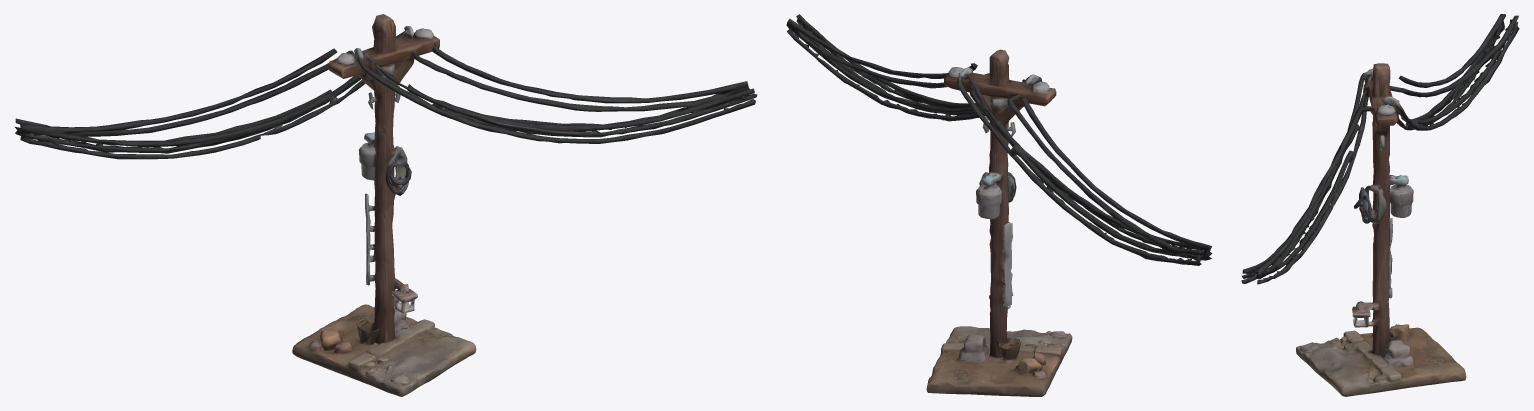
File: journey_pole.glb
3 views of the same model, side by side, from view 1: azimuth 30°, elevation 25°; view 2: azimuth 150°, elevation 25°; view 3: azimuth 270°, elevation 25° (orthographic). The views are drawn at different scales.
Visible parts, largest first — view 1: tripo_node_b016df52-84da-46c1-bbb4-cc993e6baf18; view 2: tripo_node_b016df52-84da-46c1-bbb4-cc993e6baf18; view 3: tripo_node_b016df52-84da-46c1-bbb4-cc993e6baf18.
Boxes of the visible parts, bbox=[...] form: tripo_node_b016df52-84da-46c1-bbb4-cc993e6baf18: bbox=[15, 14, 757, 396]; tripo_node_b016df52-84da-46c1-bbb4-cc993e6baf18: bbox=[786, 14, 1211, 396]; tripo_node_b016df52-84da-46c1-bbb4-cc993e6baf18: bbox=[1241, 14, 1519, 396].
Bounding box in the file's own units: 1 × 0.5471 × 0.4555.
Materials: 1 (1 with a texture image).
